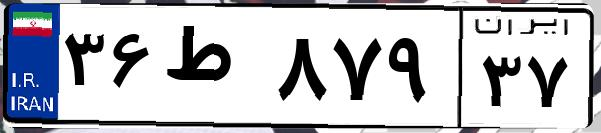3: (57, 26, 110, 100), (475, 38, 525, 113)
6: (110, 28, 158, 98)
7: (330, 28, 385, 110), (525, 38, 570, 115)
8: (270, 28, 330, 110)
9: (385, 28, 445, 110)
ط: (158, 20, 270, 120)
